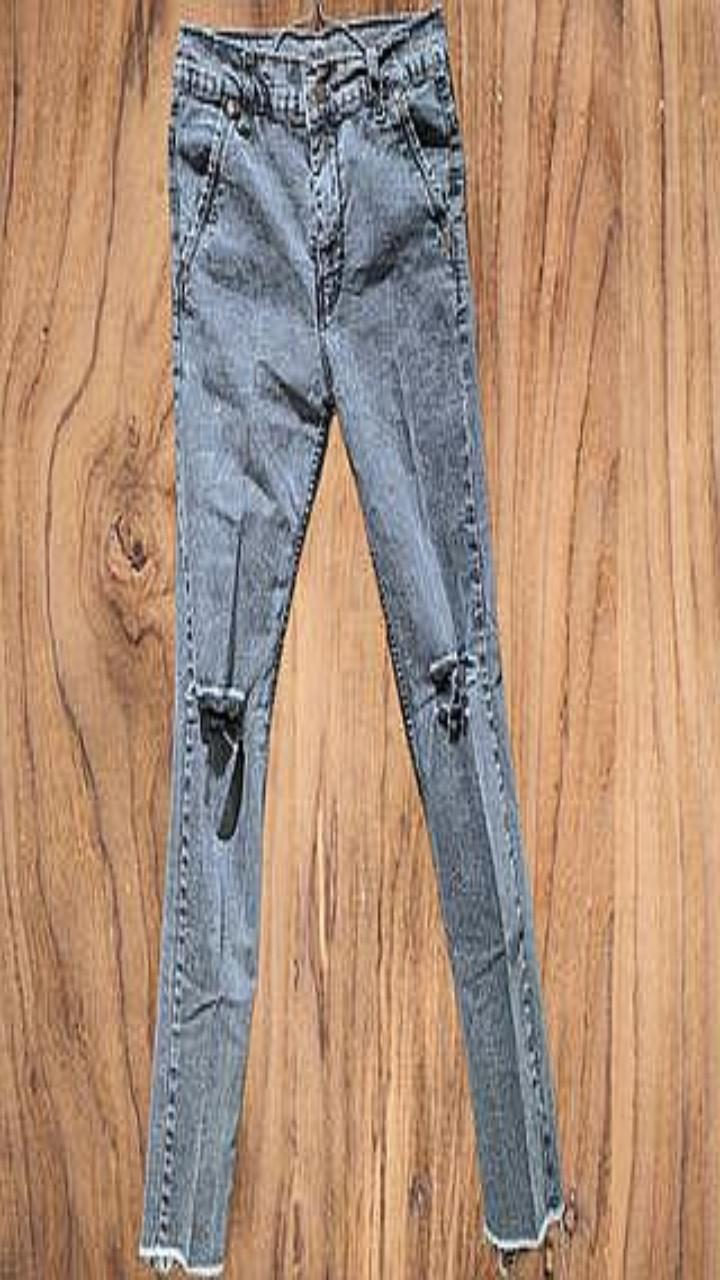Jeans: (139, 4, 564, 1274)
